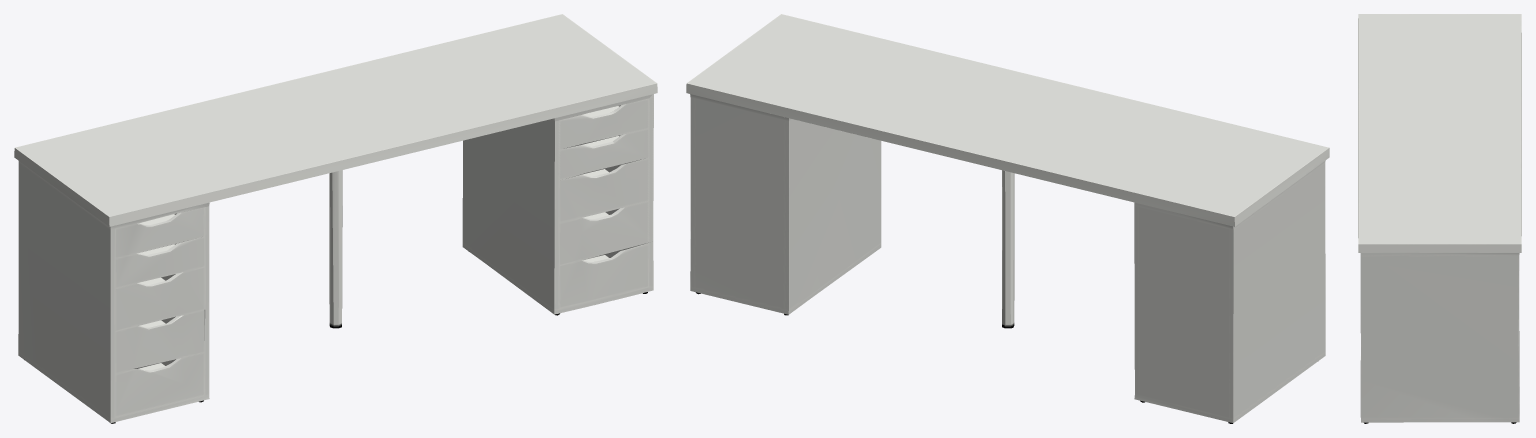
Rendered from lagkapten_alex_desk_white.glb.
The picture shows the model from 3 angles, left to right: view 1: azimuth 30°, elevation 25°; view 2: azimuth 150°, elevation 25°; view 3: azimuth 270°, elevation 25°; orthographic projection. The views are drawn at different scales.
Visible parts, largest first — view 1: ProcessedMeshNode; view 2: ProcessedMeshNode; view 3: ProcessedMeshNode.
Boxes of the visible parts, x1=… form: ProcessedMeshNode: x1=14, y1=14, x2=657, y2=423; ProcessedMeshNode: x1=686, y1=14, x2=1329, y2=423; ProcessedMeshNode: x1=1358, y1=14, x2=1521, y2=423.
Size of the model in its own units: 2 by 0.7355 by 0.6006.
1 material, 1 textured.
